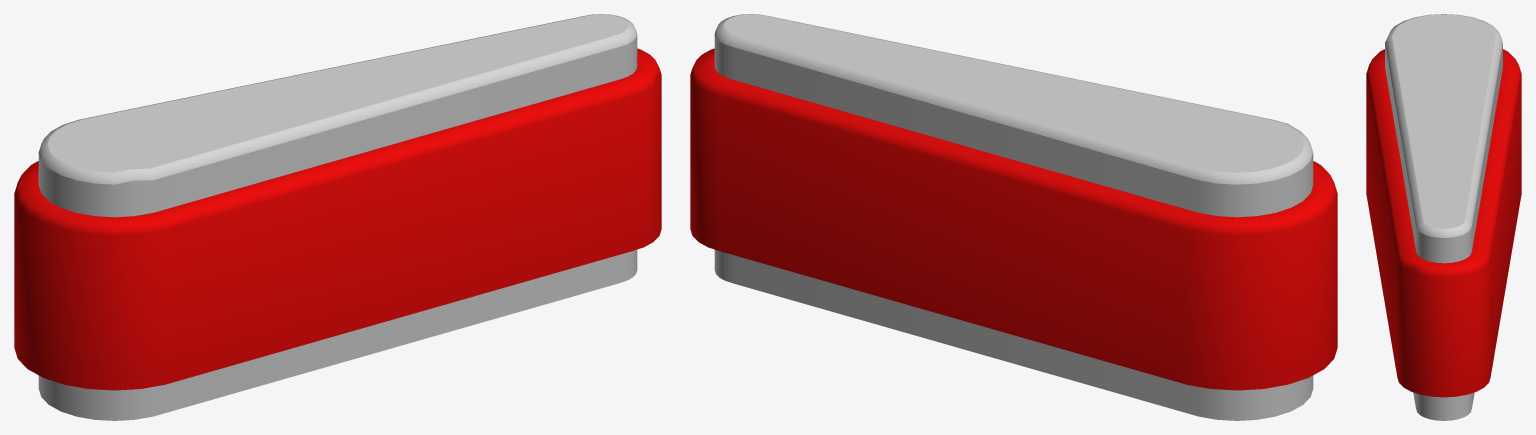
File: flipper.fbx
3 views of the same model, side by side, from view 1: azimuth 30°, elevation 25°; view 2: azimuth 150°, elevation 25°; view 3: azimuth 270°, elevation 25° (orthographic). The views are drawn at different scales.
Visible parts, largest first — view 1: flipper; view 2: flipper; view 3: flipper.
Part boxes in pixels (left/top/right/bottom): flipper: left=14, top=14, right=661, bottom=420; flipper: left=690, top=14, right=1337, bottom=420; flipper: left=1366, top=14, right=1521, bottom=420.
Size of the model in its own units: 0.0804 by 0.0302 by 0.0223.
